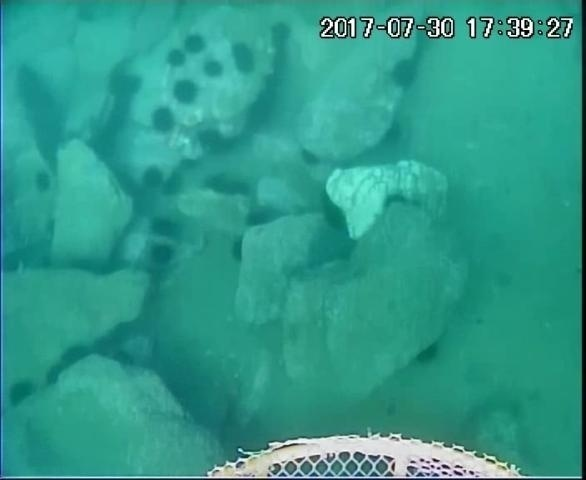echinus: (241, 90, 282, 135), (104, 64, 145, 107), (193, 124, 236, 160), (241, 201, 286, 235), (387, 55, 423, 93), (3, 376, 40, 412), (54, 340, 95, 372), (317, 198, 351, 236), (146, 213, 185, 244), (144, 240, 179, 273), (147, 104, 179, 138), (411, 339, 445, 370), (169, 77, 202, 108), (138, 163, 168, 195), (158, 169, 188, 201), (41, 361, 70, 391), (179, 30, 210, 58), (226, 232, 249, 268), (199, 57, 225, 82), (163, 46, 189, 71), (300, 146, 326, 171), (375, 119, 401, 144), (32, 167, 58, 192), (226, 37, 254, 60), (267, 20, 294, 42), (234, 175, 257, 199), (217, 180, 240, 204), (203, 167, 226, 191), (236, 55, 258, 78), (269, 37, 288, 54)
